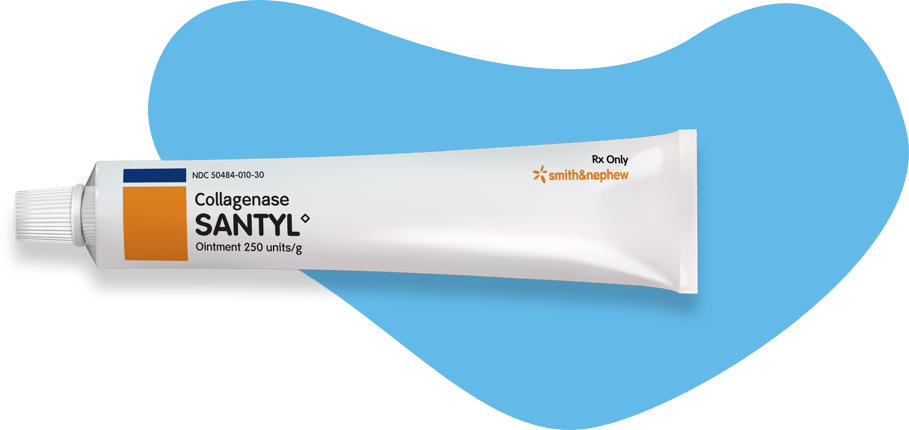Medicine: (5, 129, 726, 298)
